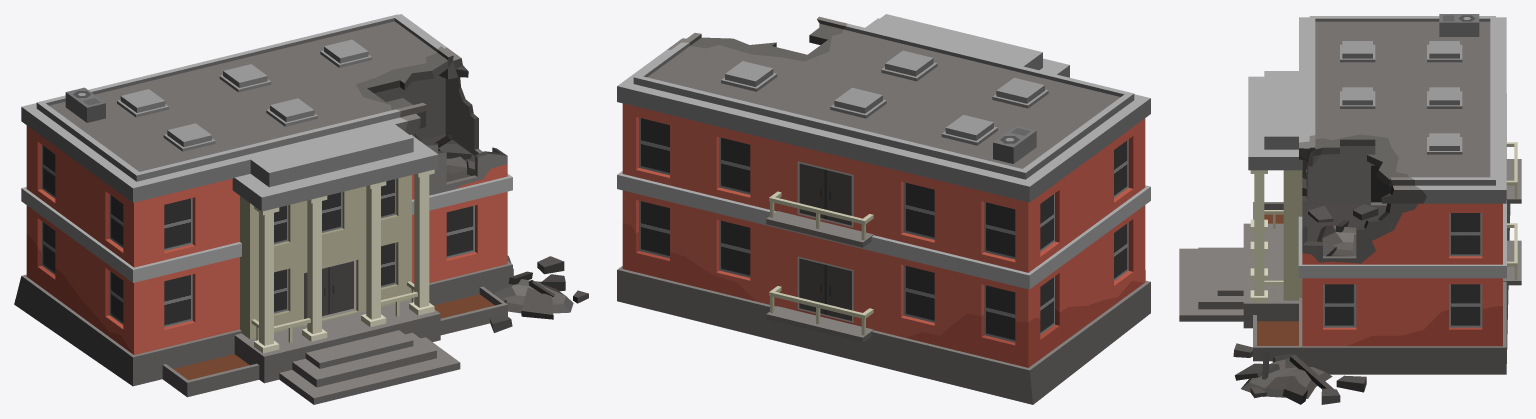
File: SA_Bld_TownHall_Damaged_01.gltf
3 renders of one model, left to right at view 1: azimuth 30°, elevation 25°; view 2: azimuth 150°, elevation 25°; view 3: azimuth 270°, elevation 25°, orthographic. The views are drawn at different scales.
Visible parts, largest first — view 1: SA_Bld_TownHall_Damaged_01; view 2: SA_Bld_TownHall_Damaged_01; view 3: SA_Bld_TownHall_Damaged_01.
Boxes of the visible parts, x1,y1,x2,y2 form: SA_Bld_TownHall_Damaged_01: (14, 14, 588, 404); SA_Bld_TownHall_Damaged_01: (617, 14, 1150, 404); SA_Bld_TownHall_Damaged_01: (1179, 14, 1521, 404).
Bounding box in the file's own units: 33.06 × 15.81 × 23.47.
Materials: 1 (1 with a texture image).
